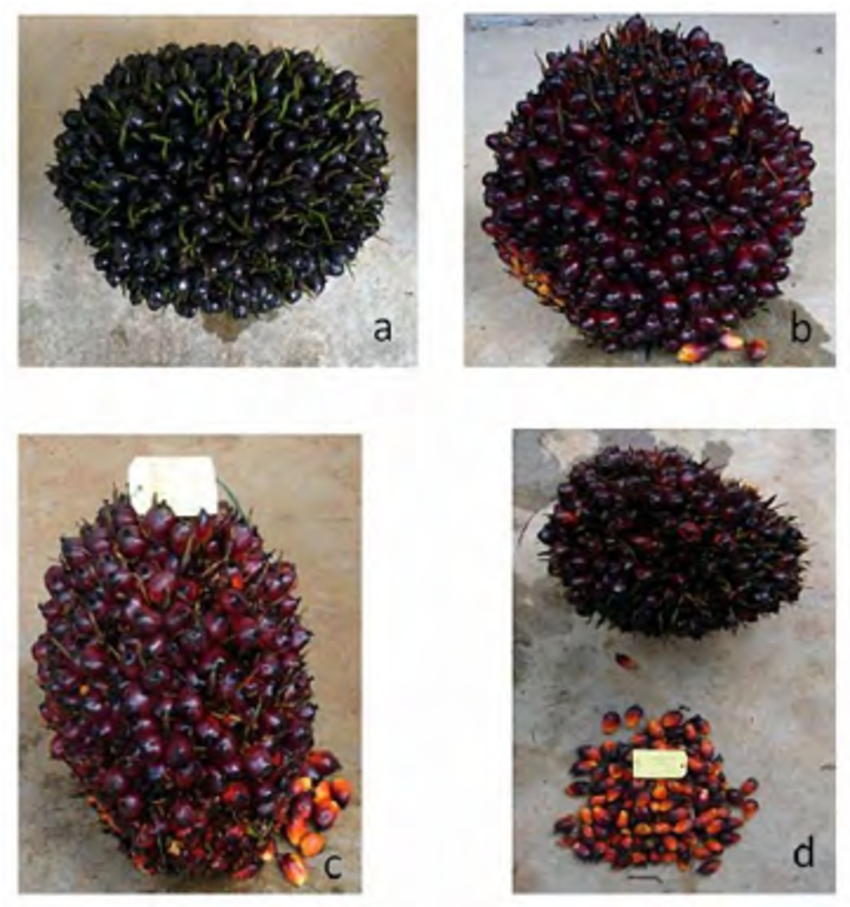PalmUnripe: (26, 490, 350, 845), (44, 41, 402, 316), (470, 29, 816, 303), (538, 449, 820, 657)
